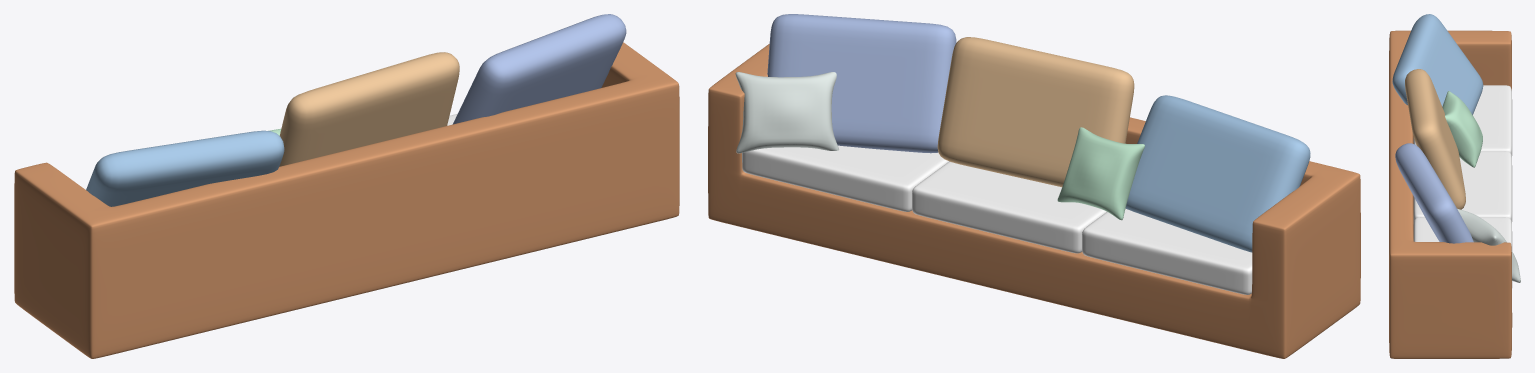
Rendered from sofa.fbx.
The picture shows the model from 3 angles, left to right: view 1: azimuth 30°, elevation 25°; view 2: azimuth 150°, elevation 25°; view 3: azimuth 270°, elevation 25°; orthographic projection. The views are drawn at different scales.
Parts seen in each view (by area): view 1: Sofa; view 2: Sofa; view 3: Sofa.
Boxes of the visible parts, x1,y1,x2,y2 form: Sofa: [14, 14, 679, 358]; Sofa: [708, 14, 1360, 358]; Sofa: [1389, 14, 1520, 358].
Bounding box in the file's own units: 1502 × 483 × 372.
